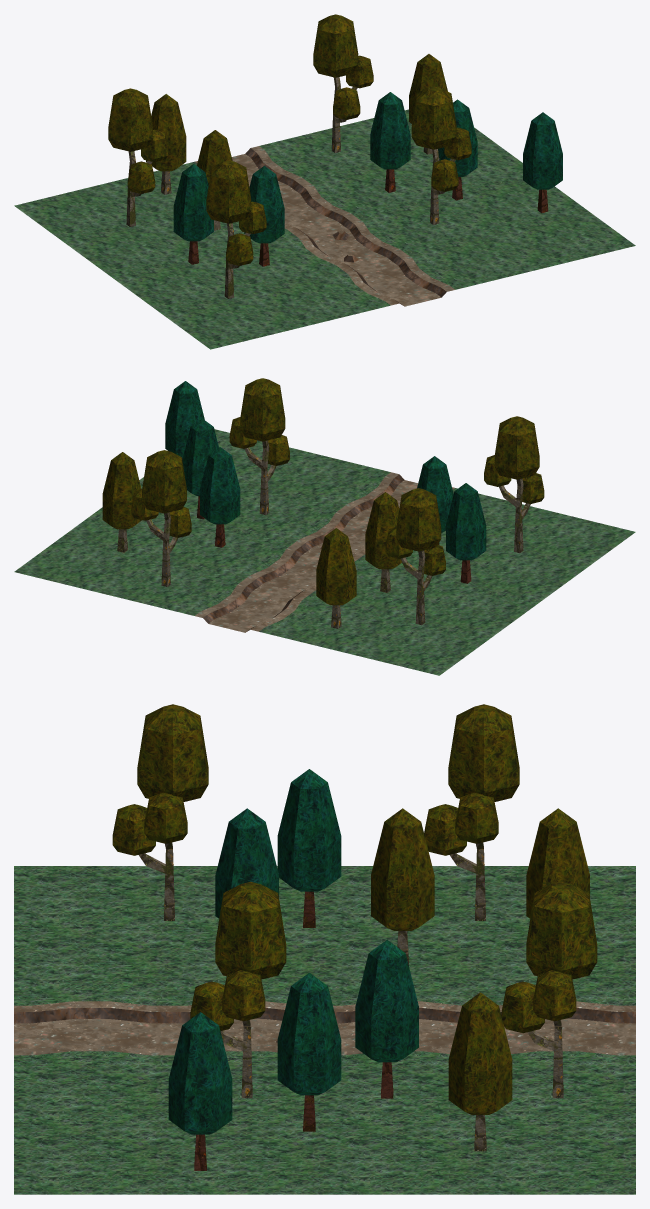
Rendered from road_sample.glb.
3 renders of one model, top to bottom at view 1: azimuth 30°, elevation 25°; view 2: azimuth 150°, elevation 25°; view 3: azimuth 270°, elevation 25°, orthographic. The views are drawn at different scales.
Visible parts, largest first — view 1: ground_grass (×4), tree_thin_fall (×4), tree_small_dark (×5), ground_pathStraight (×3), tree_small_fall (×3), ground_pathRocks; view 2: ground_grass (×4), tree_thin_fall (×4), tree_small_dark (×5), ground_pathStraight (×3), tree_small_fall (×3), ground_pathRocks; view 3: ground_grass (×4), tree_thin_fall (×4), tree_small_dark (×5), ground_pathStraight (×3), tree_small_fall (×3), ground_pathRocks.
Part boxes in pixels (x1,y1,x2,y2): ground_grass (×4): (14,109,635,349); tree_thin_fall (×4): (108,14,471,298); tree_small_dark (×5): (173,92,562,266); ground_pathStraight (×3): (184,143,465,307); tree_small_fall (×3): (146,54,447,230); ground_pathRocks: (283,215,416,271); ground_grass (×4): (14,429,635,675); tree_thin_fall (×4): (131,378,544,625); tree_small_dark (×5): (165,381,486,583); ground_pathStraight (×3): (184,470,457,633); tree_small_fall (×3): (102,452,401,628); ground_pathRocks: (283,505,368,562); ground_grass (×4): (14,866,635,1194); tree_thin_fall (×4): (112,704,597,1098); tree_small_dark (×5): (168,769,418,1170); ground_pathStraight (×3): (14,997,635,1063); tree_small_fall (×3): (371,808,589,1151); ground_pathRocks: (169,997,287,1063).
Bounding box in the file's own units: 5 × 1.54 × 4.
40 materials, 40 textured.
